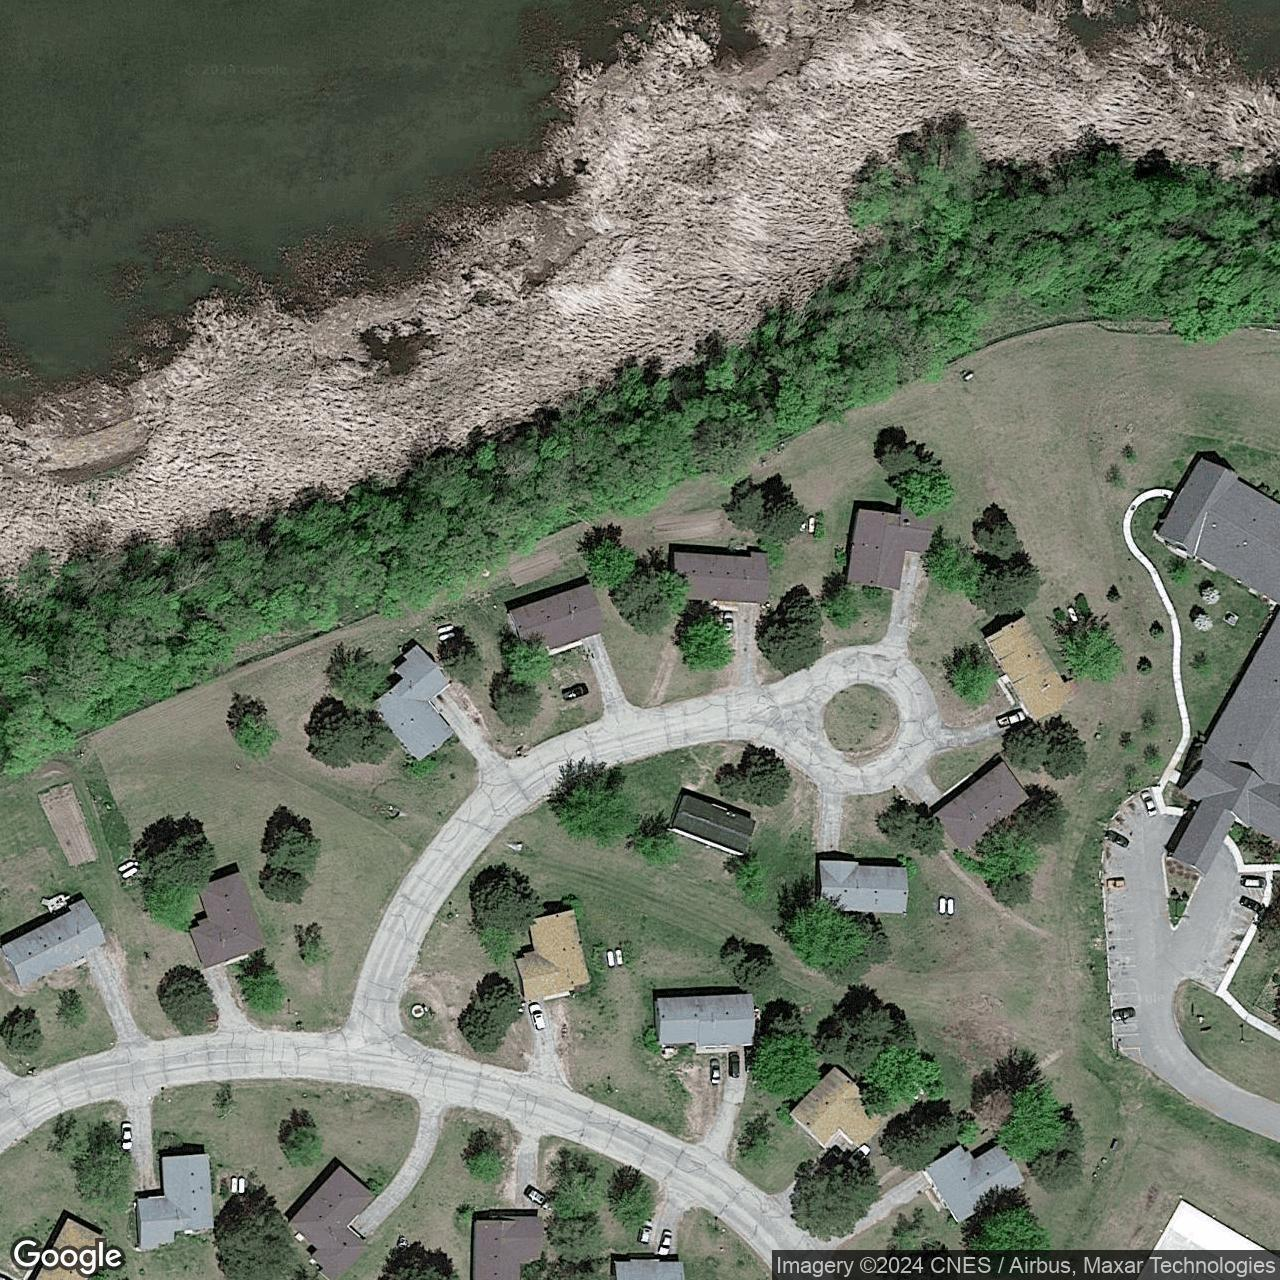House: (1156, 458, 1280, 878), (986, 614, 1078, 722), (372, 645, 456, 762), (290, 1165, 375, 1280), (0, 897, 107, 988), (932, 760, 1032, 849), (789, 1065, 892, 1148), (922, 1143, 1024, 1224), (846, 501, 934, 592), (136, 1153, 215, 1251), (189, 873, 266, 969), (515, 908, 592, 1001), (506, 584, 601, 659), (666, 795, 757, 857), (654, 994, 754, 1047), (673, 551, 769, 605), (818, 860, 908, 914), (34, 1216, 107, 1280), (470, 1217, 544, 1279), (614, 1260, 685, 1280)
Propane: (116, 857, 136, 874), (120, 864, 139, 880), (1067, 604, 1080, 624), (437, 631, 457, 642), (437, 622, 454, 635), (606, 948, 615, 969), (947, 894, 955, 917), (615, 946, 624, 967), (939, 896, 947, 915), (230, 1176, 238, 1196), (238, 1177, 246, 1194), (809, 515, 815, 533)
